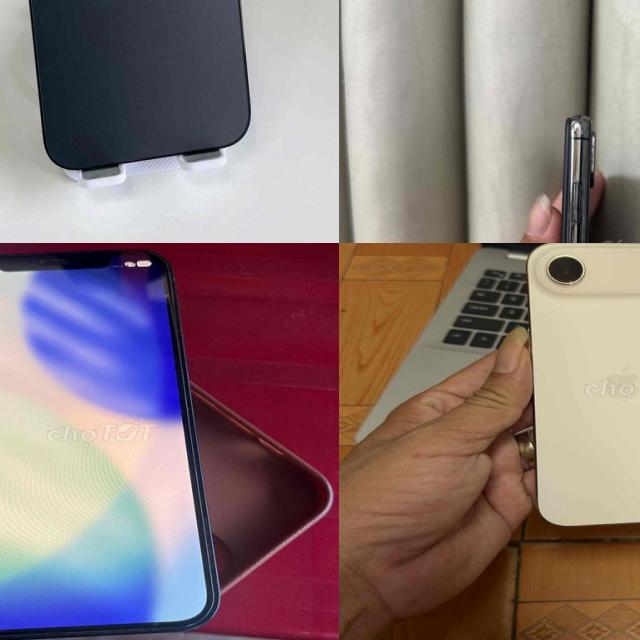gen_12_13: (0, 243, 227, 640)
gen_14: (0, 0, 260, 181)
gen_17: (525, 243, 640, 537)
gen_x_xs: (559, 116, 595, 243)
